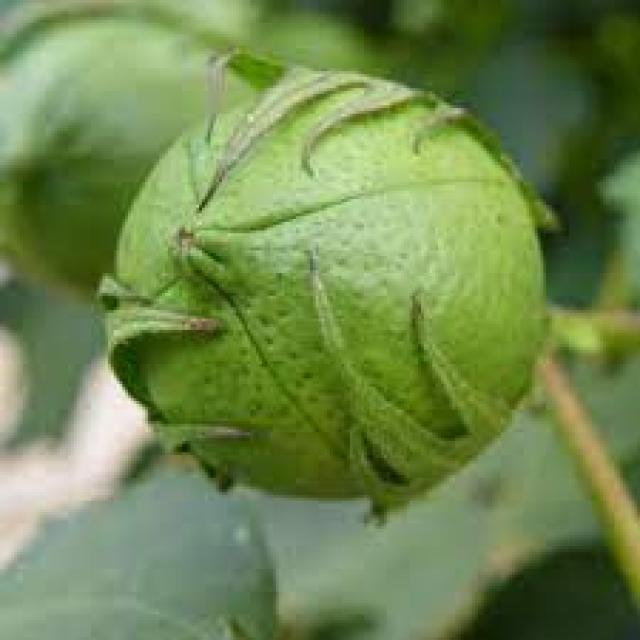Early Boll: (101, 64, 563, 518)
